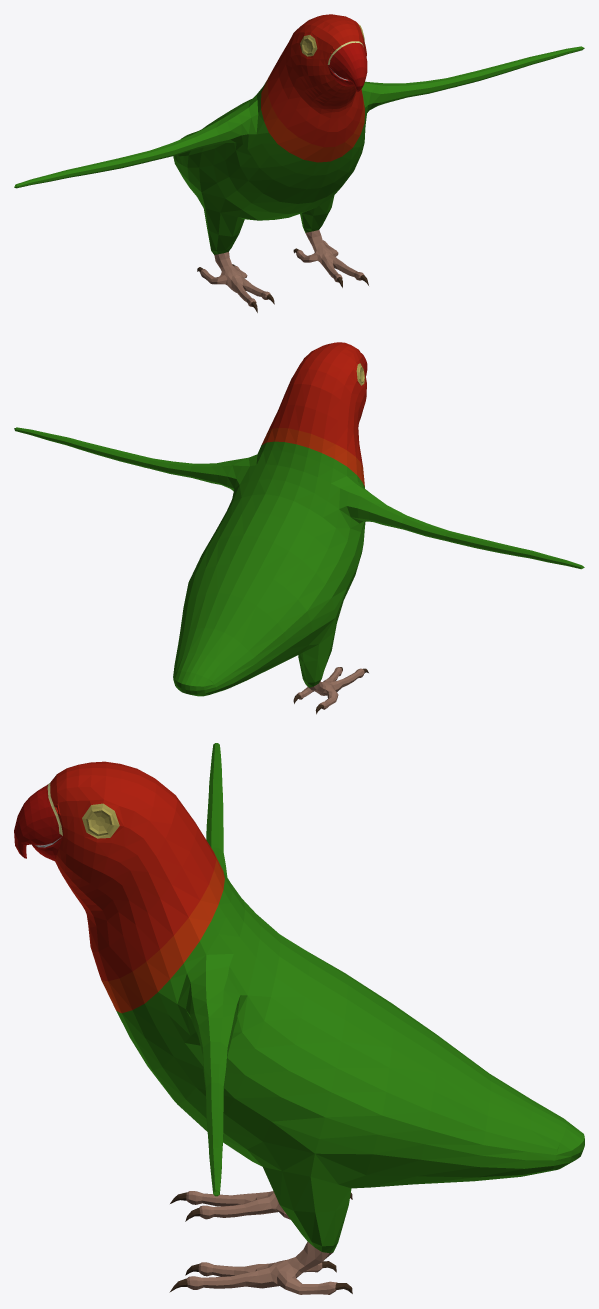
File: lovebird_lovebird.001_triangulated.obj
3 views of the same model, one above another, from view 1: azimuth 30°, elevation 25°; view 2: azimuth 150°, elevation 25°; view 3: azimuth 270°, elevation 25° (orthographic). The views are drawn at different scales.
Size of the model in its own units: 0.2021 by 0.1003 by 0.1079.
